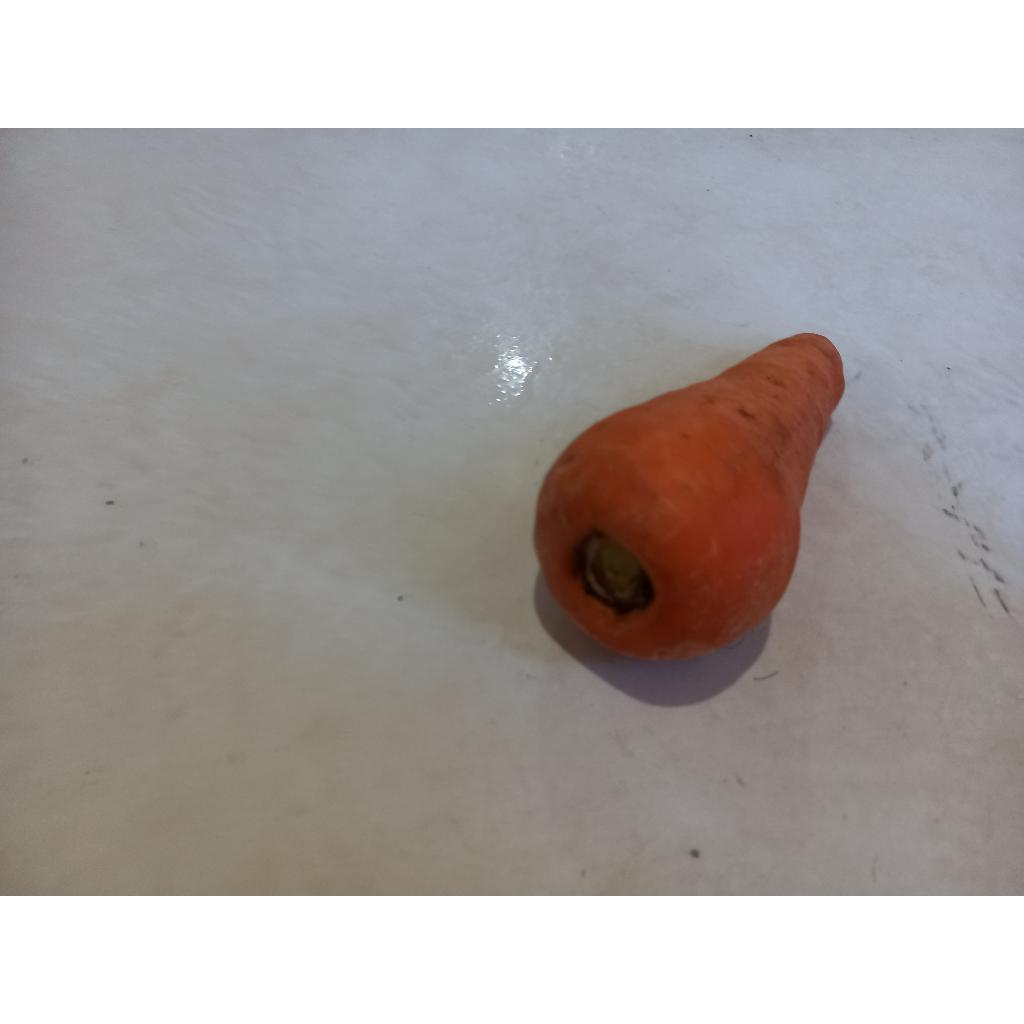carrot: (534, 334, 844, 658)
